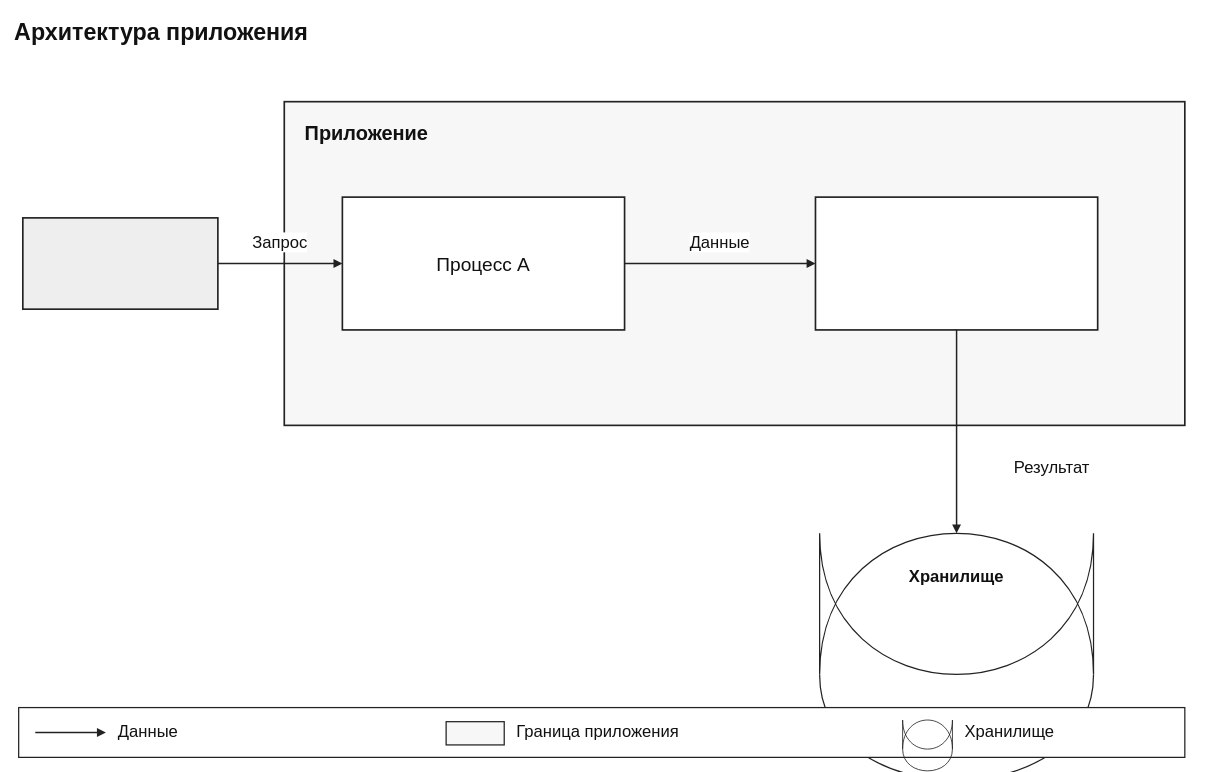
The diagram is 1207 pixels wide and 772 high, and some of its shapes have lost their labels. Each missing label, with the centre of its shape:
"Клиент" goes at (120,263).
"Процесс B" goes at (956,263).
